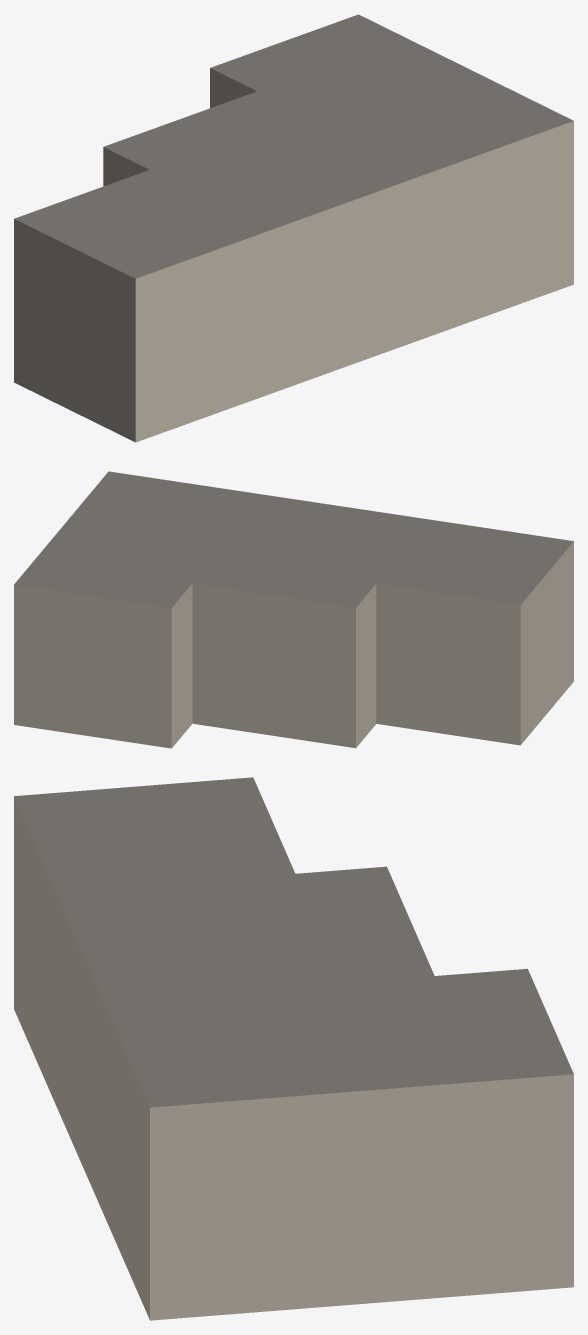
3 views of the same model, one above another, from view 1: azimuth 30°, elevation 25°; view 2: azimuth 150°, elevation 25°; view 3: azimuth 270°, elevation 25° (orthographic). The views are drawn at different scales.
Visible parts, largest first — view 1: HP-w859488618; view 2: HP-w859488618; view 3: HP-w859488618.
Boxes of the visible parts, box(x1,y1,x2,y2) form: HP-w859488618: box(14, 14, 573, 442); HP-w859488618: box(14, 471, 573, 748); HP-w859488618: box(14, 777, 573, 1320).
Size of the model in its own units: 59.86 by 18 by 42.89.
